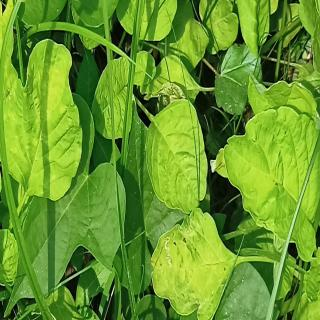virus_keriting: (169, 208, 208, 238)
